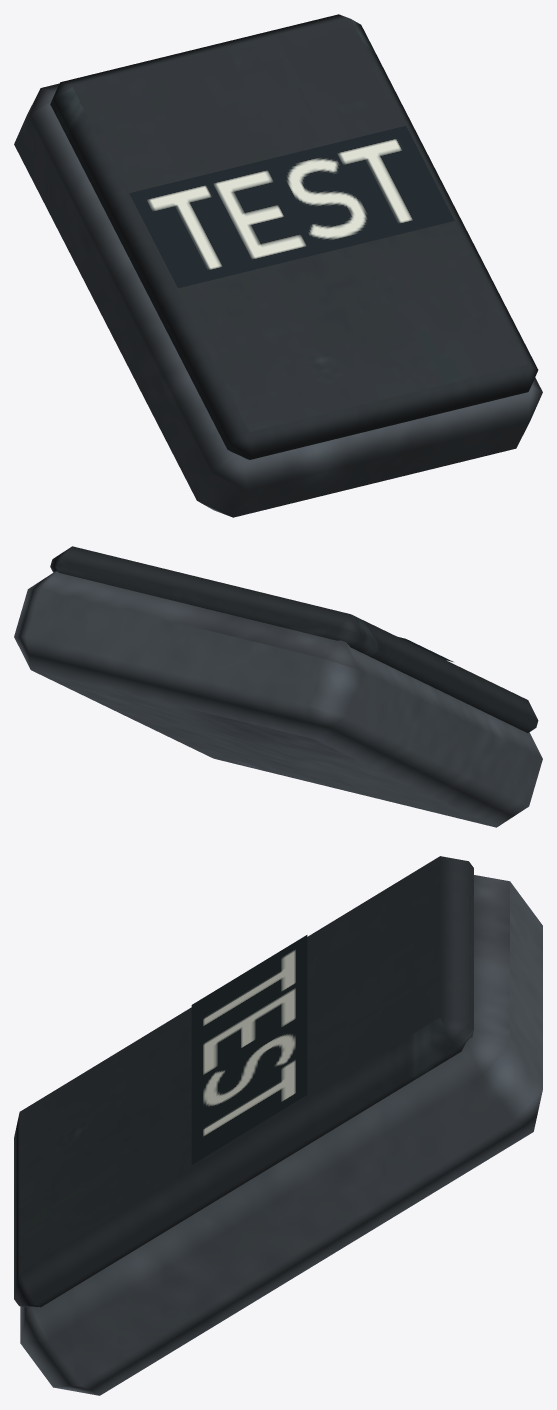
The model's file is prop_key_lamp_test.fbx.
3 renders of one model, top to bottom at view 1: azimuth 30°, elevation 25°; view 2: azimuth 150°, elevation 25°; view 3: azimuth 270°, elevation 25°, orthographic. The views are drawn at different scales.
Visible parts, largest first — view 1: SM_prop_key_lamp_test; view 2: SM_prop_key_lamp_test; view 3: SM_prop_key_lamp_test.
Boxes of the visible parts, x1,y1,x2,y2 form: SM_prop_key_lamp_test: (14, 14, 542, 517); SM_prop_key_lamp_test: (14, 546, 542, 827); SM_prop_key_lamp_test: (14, 856, 542, 1395).
Size of the model in its own units: 0.054 by 0.0494 by 0.0628.
3 materials, 3 textured.
